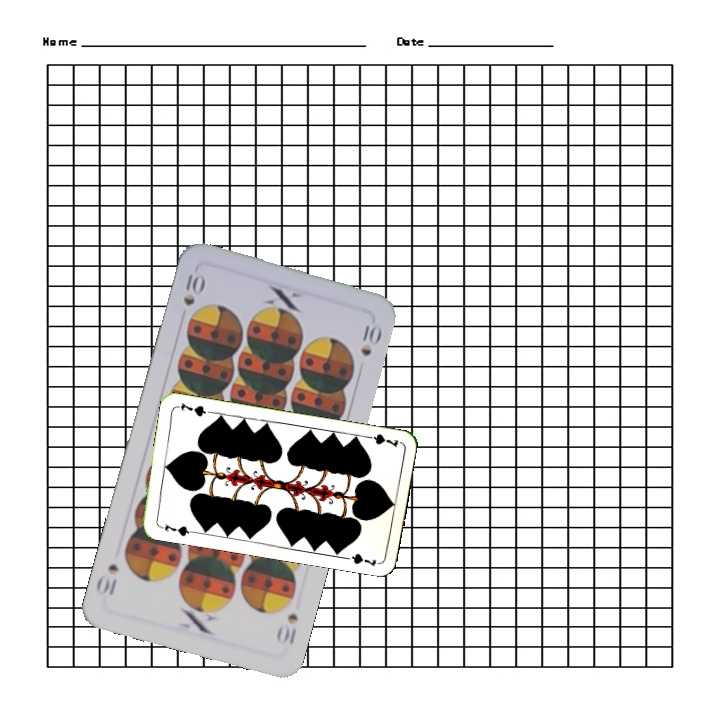G7: (361, 430, 401, 450), (155, 520, 195, 539)
S10: (272, 609, 301, 648), (179, 270, 206, 308)
